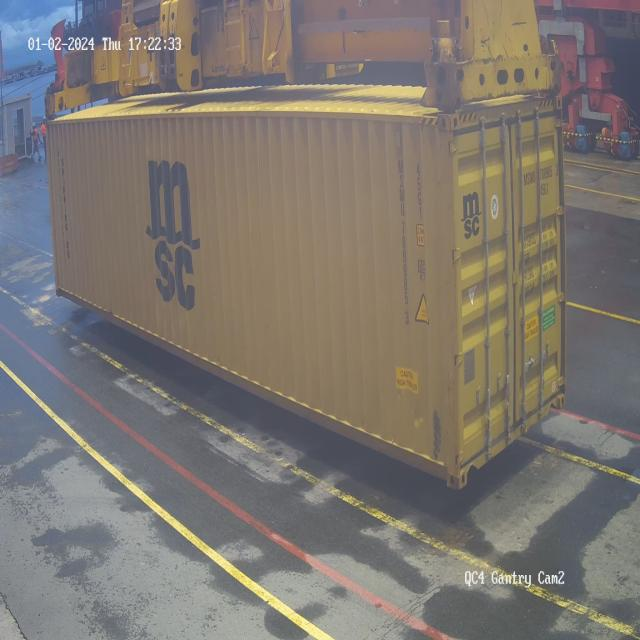dent: (411, 405, 431, 440)
